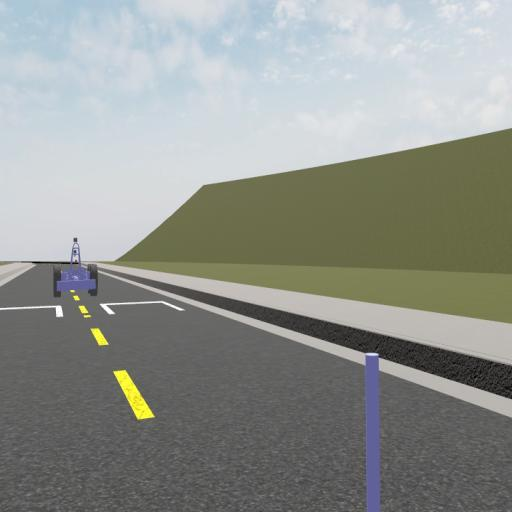ERP-42: (52, 239, 98, 296)
